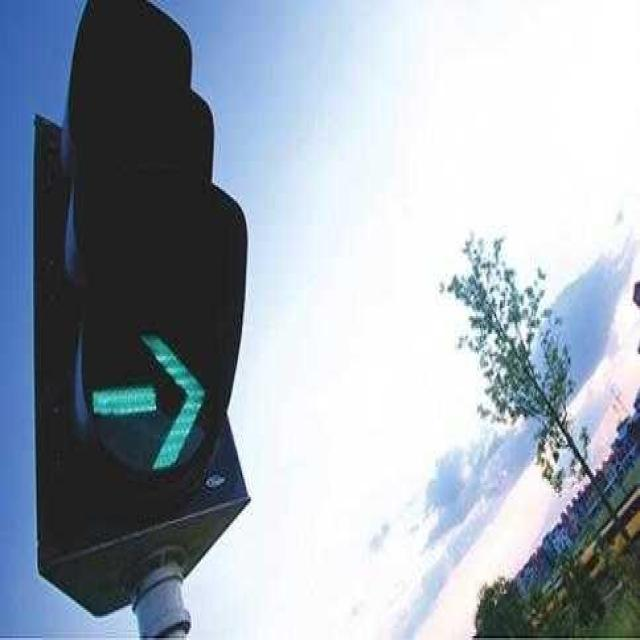Traffic Light -Green-: (28, 0, 248, 560)
